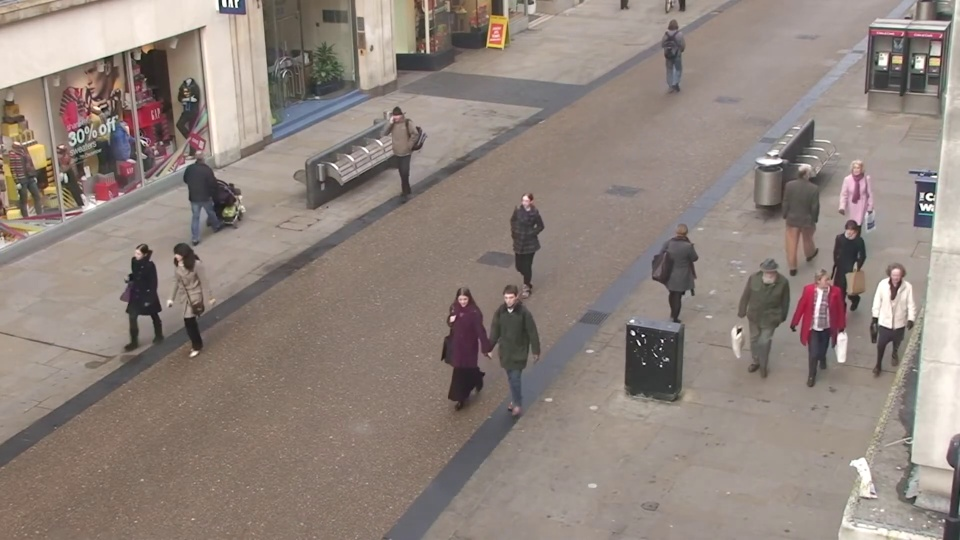pedestrian: (858, 263, 914, 400), (788, 264, 839, 399), (111, 242, 165, 369), (436, 284, 484, 425), (153, 245, 205, 373), (739, 267, 788, 402), (483, 289, 529, 431), (819, 218, 867, 342), (661, 214, 702, 337), (832, 158, 875, 266), (502, 191, 540, 308), (786, 157, 826, 265), (190, 141, 230, 241), (379, 108, 412, 201), (663, 17, 687, 86)
